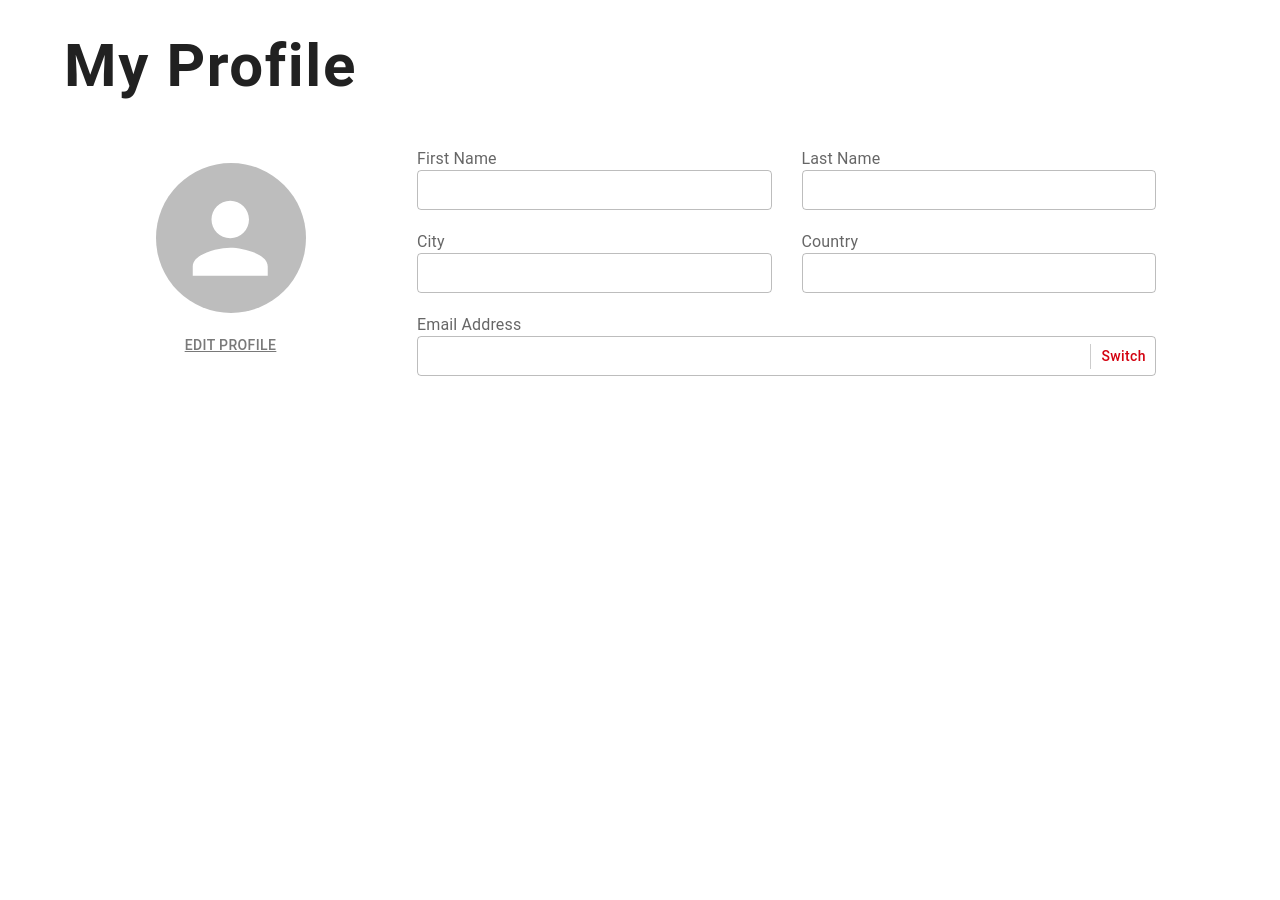
it: Proifle › click switch button and show the security modal
The image size is (1280, 900).
Click the button "Switch".
click(1124, 356)  # box [1091, 344, 1156, 368]
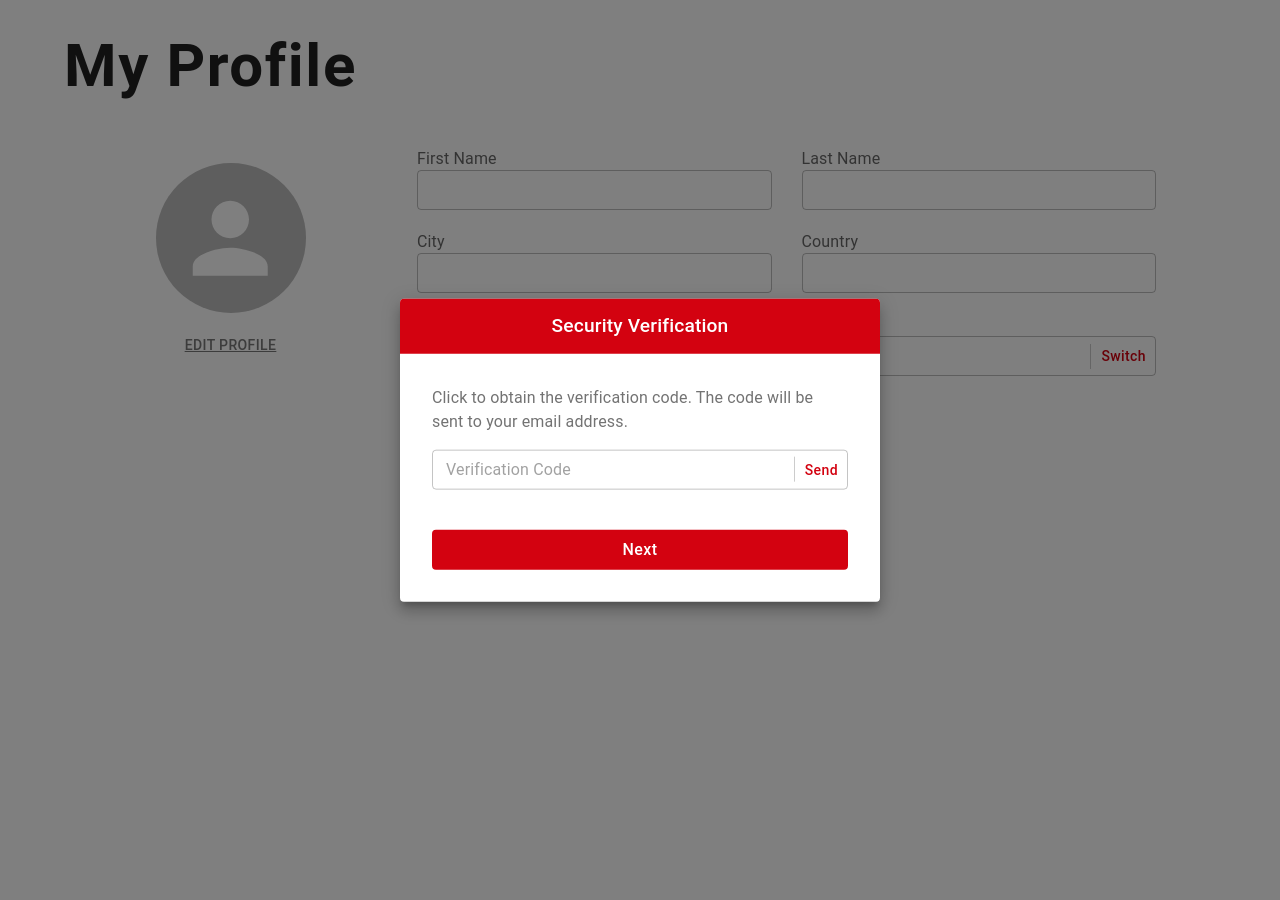
expect the heading "Security Verification" is shown: met, box [552, 314, 728, 337]
